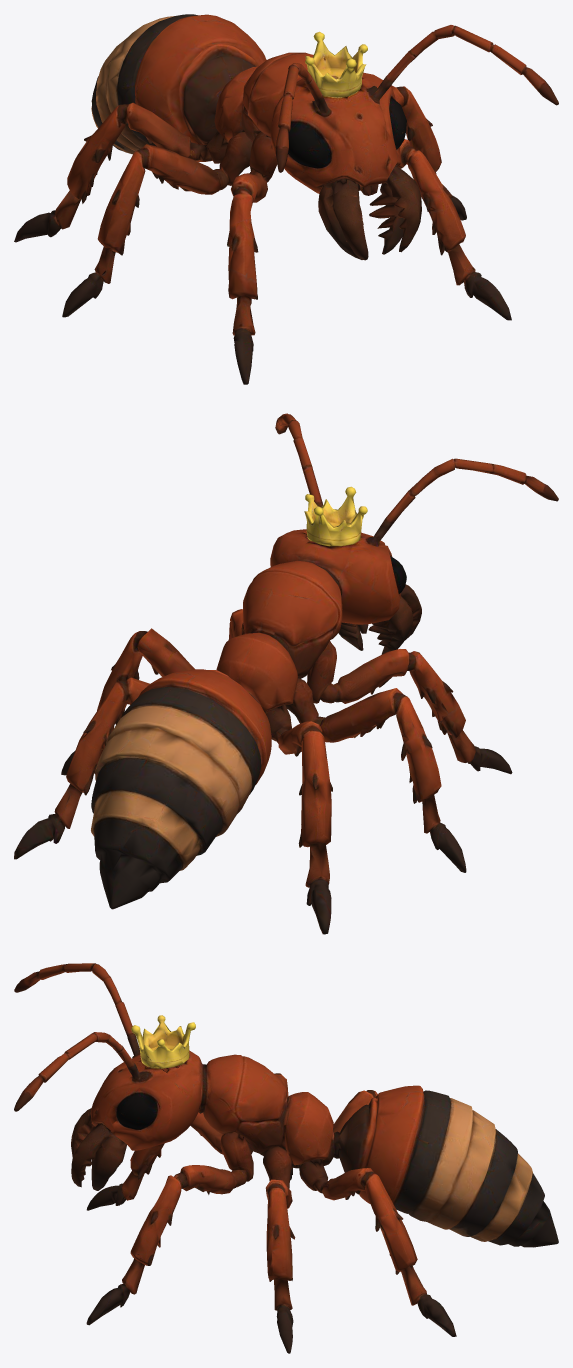
The model's file is boss_ant.glb.
The picture shows the model from 3 angles, top to bottom: view 1: azimuth 30°, elevation 25°; view 2: azimuth 150°, elevation 25°; view 3: azimuth 270°, elevation 25°; orthographic projection. The views are drawn at different scales.
Bounding box in the file's own units: 1.44 × 1.05 × 1.9.
Materials: 1 (1 with a texture image).
